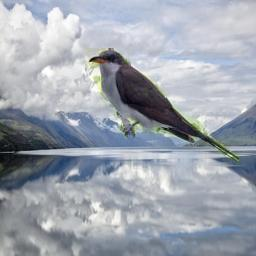Cuckoo: (85, 48, 239, 164)
